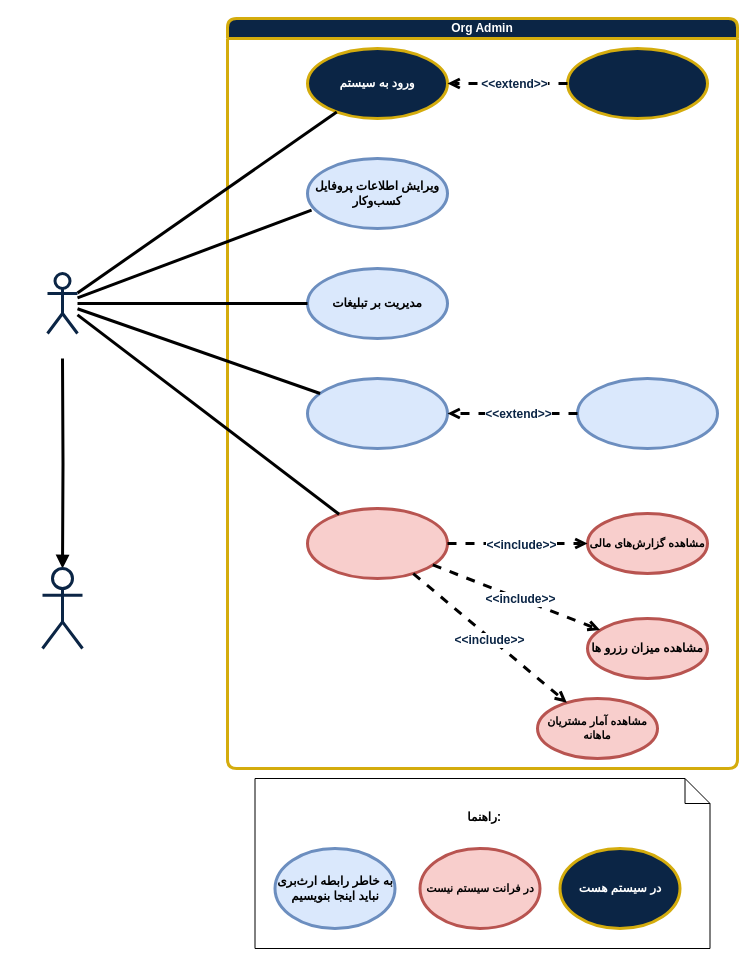
The diagram is 756 pixels wide and 966 high, and some of its shapes have lost their labels. Here are the shapes that lost their labels. From the top down, the centre of each, then its label:
(x=637, y=83): بازیابی رمز عبور
(x=62, y=303): مدیر کسب‌وکار
(x=377, y=413): مشاهده لیست کارمندان
(x=647, y=413): حذف/ویرایش/ثبت کارمند
(x=377, y=543): گزارش گیری عملکرد
(x=62, y=608): پشتیبان کسب‌وکار
